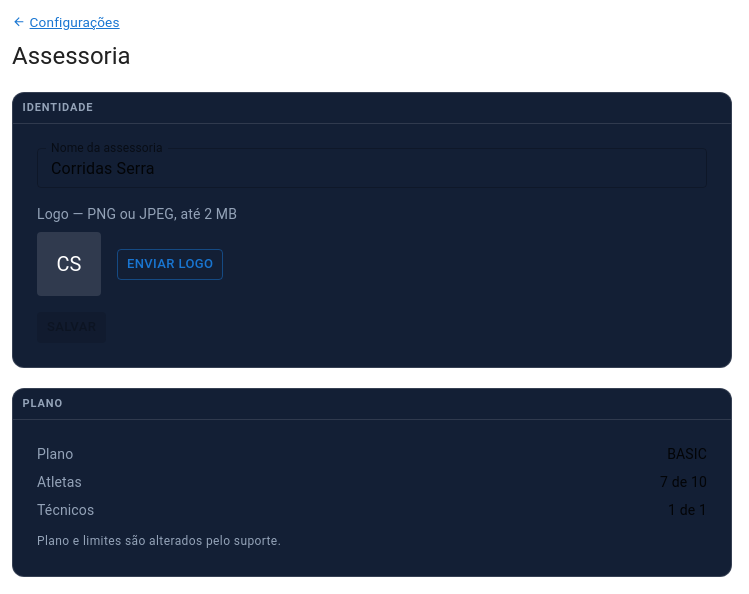
CoachAssessoriaSettingsPage › salvar o nome › só habilita salvar quando há alteração
Type " Pro" into the field labelled "Nome da assessoria" at (372, 168), box [37,148,707,188]
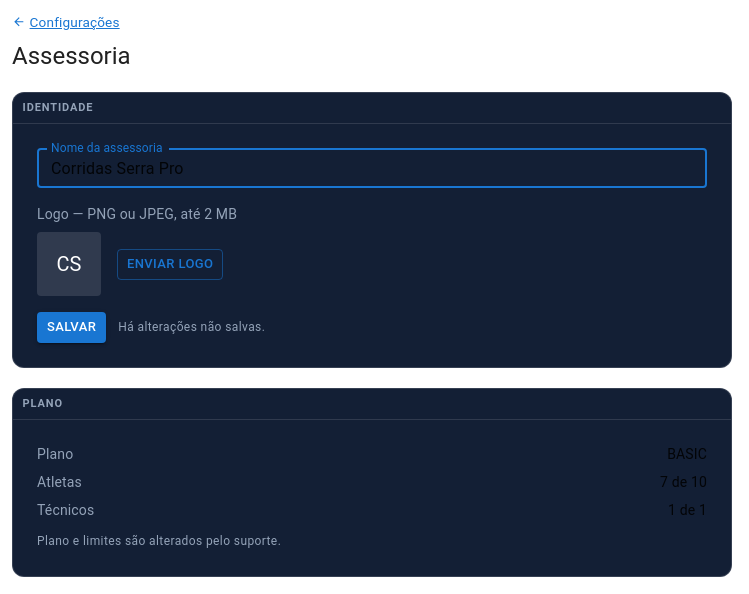
Now the button "Salvar" is enabled, box [37,312,106,343]
Now the text "Há alterações não salvas." is shown, box [118,318,265,337]
